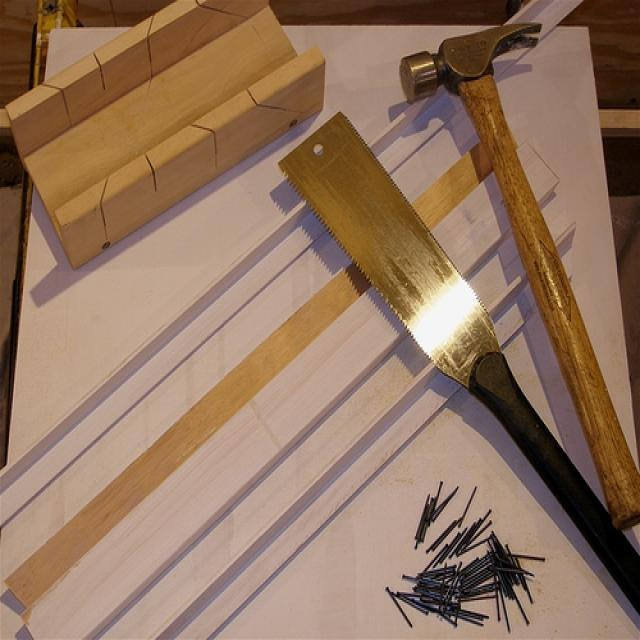hammer: (398, 0, 640, 472)
